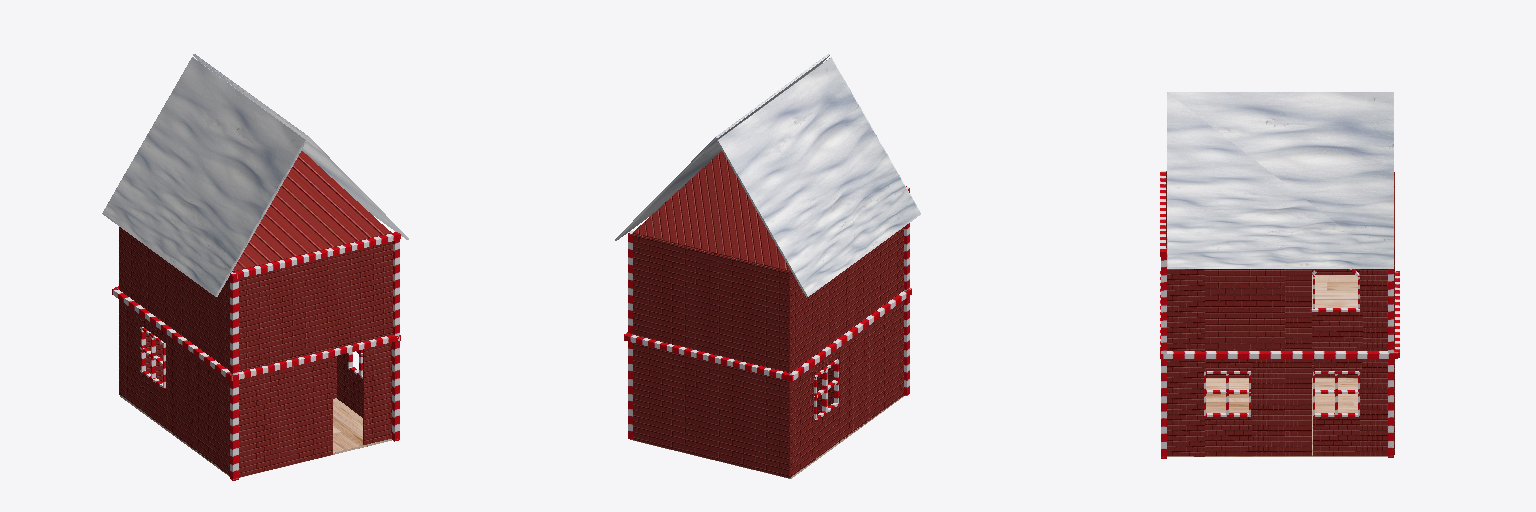
3 renders of one model, left to right at view 1: azimuth 30°, elevation 25°; view 2: azimuth 150°, elevation 25°; view 3: azimuth 270°, elevation 25°, orthographic.
Visible parts, largest first — view 1: polySurface3274 polySurface3357, polySurface3274 polySurface3372, polySurface3274 polySurface3378, polySurface3382 polySurface3274, polySurface3274 polySurface3371, polySurface3274 polySurface3312, polySurface3274 polySurface3367, polySurface3274 polySurface3333, polySurface3274 polySurface3339, polySurface3274 polySurface3345, polySurface3274 polySurface3322, polySurface3274 polySurface3364 (+6 smaller); view 2: polySurface3274 polySurface3357, polySurface3274 polySurface3321, polySurface3274 polySurface3315, polySurface3382 polySurface3274, polySurface3274 polySurface3371, polySurface3274 polySurface3312, polySurface3274 polySurface3333, polySurface3274 polySurface3339, polySurface3274 polySurface3363, polySurface3274 polySurface3335, polySurface3274 polySurface3344, polySurface3274 polySurface3345 (+1 smaller); view 3: polySurface3274 polySurface3339, polySurface3274 polySurface3308, polySurface3274 polySurface3331, polySurface3274 polySurface3379, polySurface3274 polySurface3376, polySurface3274 polySurface3322, polySurface3274 polySurface3353, polySurface3274 polySurface3355, polySurface3274 polySurface3348, polySurface3274 polySurface3362, polySurface3274 polySurface3375, polySurface3274 polySurface3356 (+7 smaller).
Boxes of the visible parts, x1=… form: polySurface3274 polySurface3357: x1=102, y1=57, x2=306, y2=296; polySurface3274 polySurface3372: x1=239, y1=241, x2=392, y2=371; polySurface3274 polySurface3378: x1=239, y1=357, x2=332, y2=477; polySurface3382 polySurface3274: x1=232, y1=151, x2=390, y2=271; polySurface3274 polySurface3371: x1=119, y1=227, x2=233, y2=370; polySurface3274 polySurface3312: x1=165, y1=333, x2=229, y2=475; polySurface3274 polySurface3367: x1=363, y1=342, x2=391, y2=444; polySurface3274 polySurface3333: x1=120, y1=300, x2=142, y2=410; polySurface3274 polySurface3339: x1=193, y1=54, x2=408, y2=239; polySurface3274 polySurface3345: x1=230, y1=272, x2=238, y2=480; polySurface3274 polySurface3322: x1=120, y1=395, x2=391, y2=477; polySurface3274 polySurface3364: x1=392, y1=240, x2=399, y2=441; polySurface3274 polySurface3357: x1=717, y1=57, x2=920, y2=297; polySurface3274 polySurface3321: x1=633, y1=234, x2=790, y2=372; polySurface3274 polySurface3315: x1=633, y1=343, x2=790, y2=477; polySurface3382 polySurface3274: x1=633, y1=151, x2=791, y2=272; polySurface3274 polySurface3371: x1=791, y1=227, x2=903, y2=372; polySurface3274 polySurface3312: x1=837, y1=300, x2=903, y2=442; polySurface3274 polySurface3333: x1=791, y1=366, x2=813, y2=476; polySurface3274 polySurface3339: x1=615, y1=53, x2=829, y2=240; polySurface3274 polySurface3363: x1=624, y1=333, x2=791, y2=380; polySurface3274 polySurface3335: x1=789, y1=289, x2=911, y2=381; polySurface3274 polySurface3344: x1=628, y1=231, x2=633, y2=439; polySurface3274 polySurface3345: x1=904, y1=187, x2=909, y2=395; polySurface3274 polySurface3339: x1=1167, y1=92, x2=1393, y2=268; polySurface3274 polySurface3308: x1=1205, y1=269, x2=1284, y2=350; polySurface3274 polySurface3331: x1=1167, y1=359, x2=1204, y2=456; polySurface3274 polySurface3379: x1=1251, y1=359, x2=1284, y2=455; polySurface3274 polySurface3376: x1=1167, y1=269, x2=1204, y2=351; polySurface3274 polySurface3322: x1=1167, y1=378, x2=1387, y2=456; polySurface3274 polySurface3353: x1=1360, y1=359, x2=1387, y2=455; polySurface3274 polySurface3355: x1=1285, y1=359, x2=1311, y2=455; polySurface3274 polySurface3348: x1=1285, y1=269, x2=1311, y2=350; polySurface3274 polySurface3362: x1=1360, y1=269, x2=1387, y2=350; polySurface3274 polySurface3375: x1=1312, y1=311, x2=1362, y2=350; polySurface3274 polySurface3356: x1=1160, y1=351, x2=1397, y2=358.
Bounding box in the file's own units: 988 × 1576 × 1061.
20 materials, 5 textured.